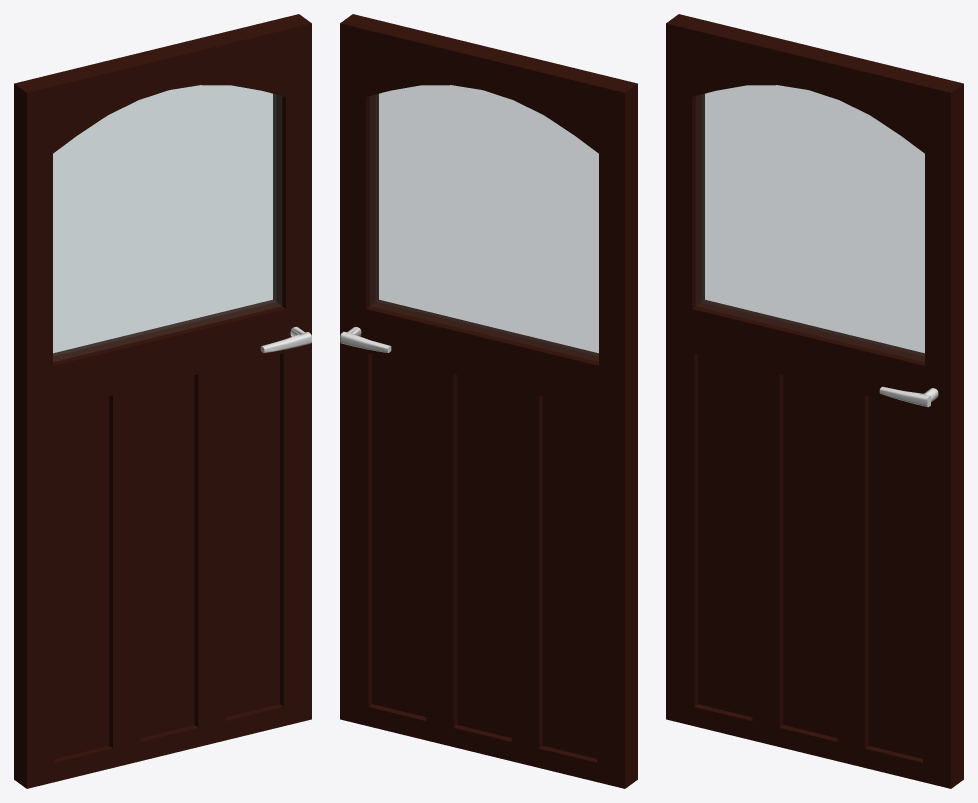
Rendered from FrontDoor.fbx.
3 views of the same model, side by side, from view 1: azimuth 30°, elevation 25°; view 2: azimuth 150°, elevation 25°; view 3: azimuth 330°, elevation 25° (orthographic).
Visible parts, largest first — view 1: Door, DoorHandle; view 2: Door, DoorHandle001; view 3: Door, DoorHandle.
Boxes of the visible parts, box(x1,y1,x2,y2) form: Door: box(14, 14, 311, 788); DoorHandle: box(260, 326, 311, 353); Door: box(340, 14, 637, 788); DoorHandle001: box(340, 326, 391, 352); Door: box(666, 14, 963, 788); DoorHandle: box(879, 386, 938, 407).
Size of the model in its own units: 90 by 210 by 20.64.
